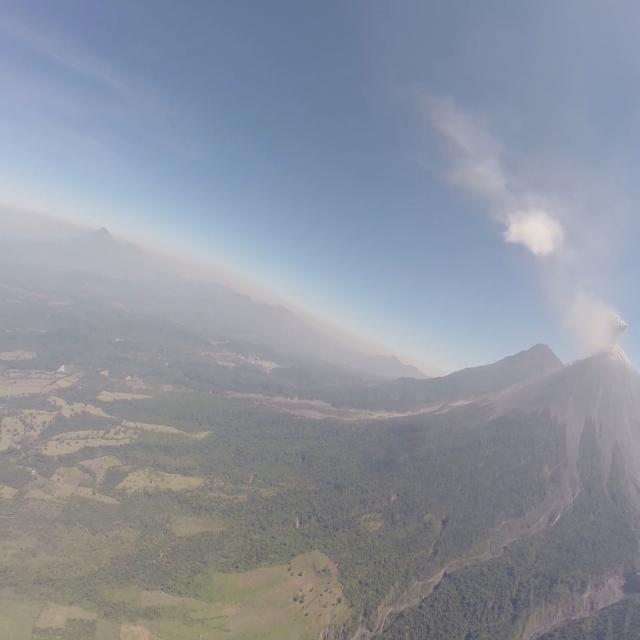Plume: (602, 308, 628, 344)
Summit: (597, 341, 631, 363)
